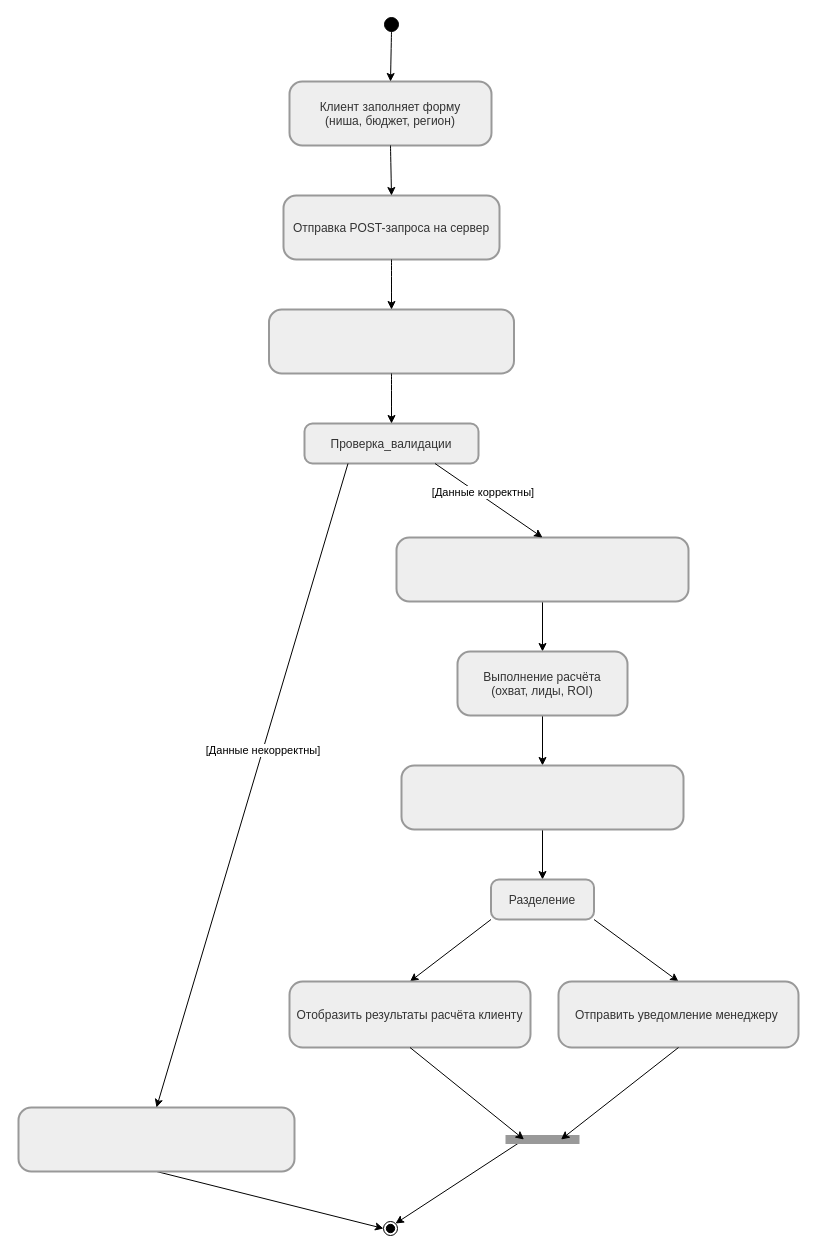
This 816x1254 diagram has some shape labels left out. The centre of each missing label's shape, as x and y in pixels:
"Запрос коэффициентов ниши и региона из БД" goes at (x=542, y=569).
"Отобразить сообщение об ошибке клиенту" goes at (x=156, y=1139).
"Сервер выполняет валидацию данных" goes at (x=391, y=341).
"Сохранение результатов в историю расчётов" goes at (x=542, y=797).
